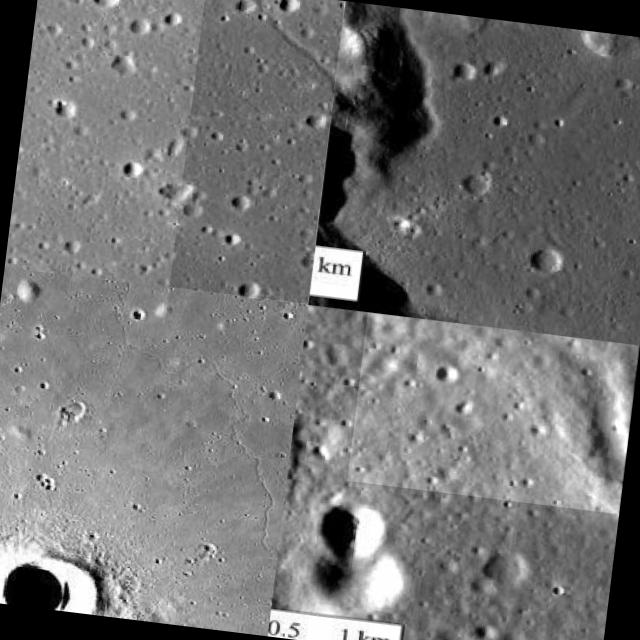rille: (347, 312, 638, 513), (169, 0, 344, 303), (472, 19, 640, 276)
